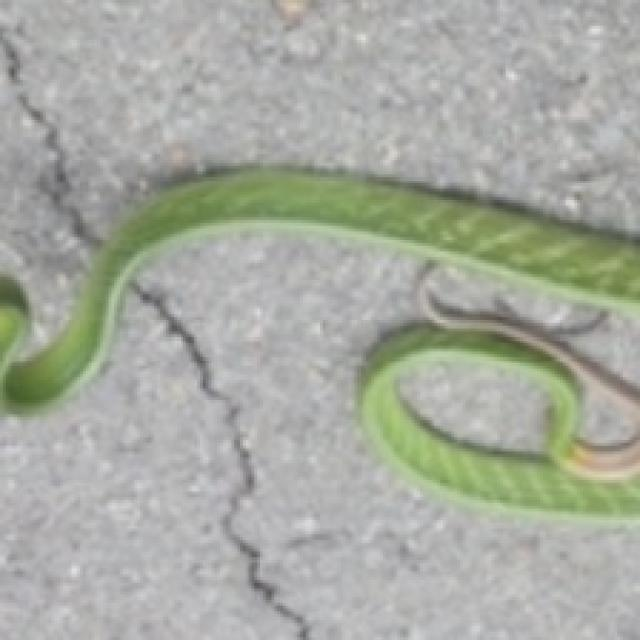red-tailed green ratsnake: (0, 169, 637, 517)
